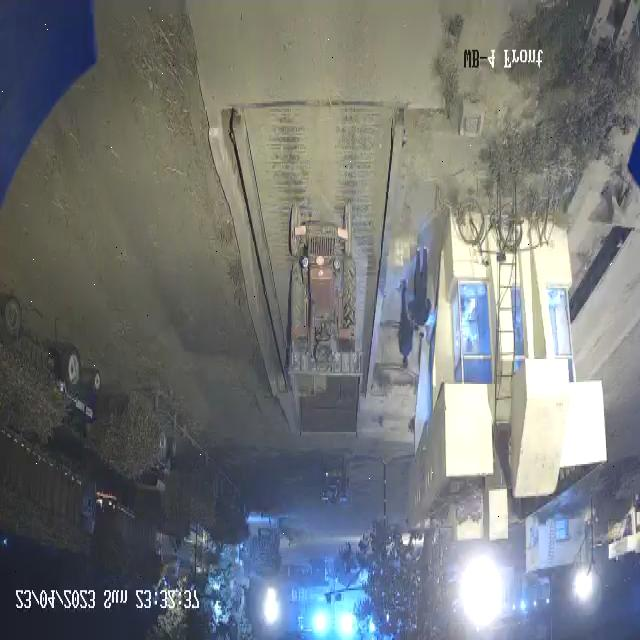Tratores - v5 YOLO V8L 2024-11-13: (284, 186, 364, 360), (49, 352, 108, 420), (310, 452, 350, 516)
